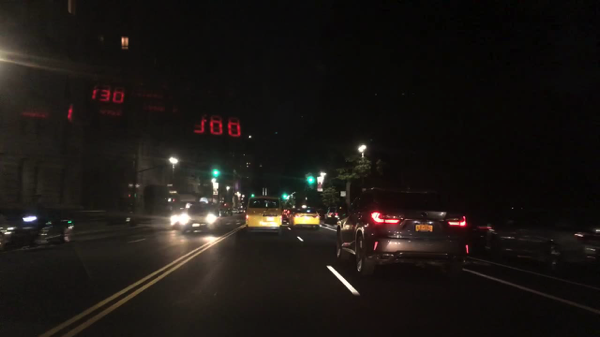car: (334, 187, 469, 281), (485, 209, 599, 272), (6, 207, 73, 246), (463, 207, 514, 251), (244, 185, 282, 238), (182, 197, 221, 229), (288, 203, 320, 231), (169, 201, 192, 230), (0, 213, 14, 251), (323, 207, 347, 226), (283, 206, 297, 221), (217, 207, 234, 219), (228, 206, 239, 217), (236, 206, 245, 215), (281, 207, 288, 216)
traffic light: (213, 161, 219, 177), (307, 173, 312, 184), (281, 190, 286, 198)
traffic sign: (128, 182, 142, 191), (168, 189, 176, 195), (165, 182, 173, 188), (340, 190, 346, 197), (213, 188, 218, 196), (213, 183, 218, 189)
